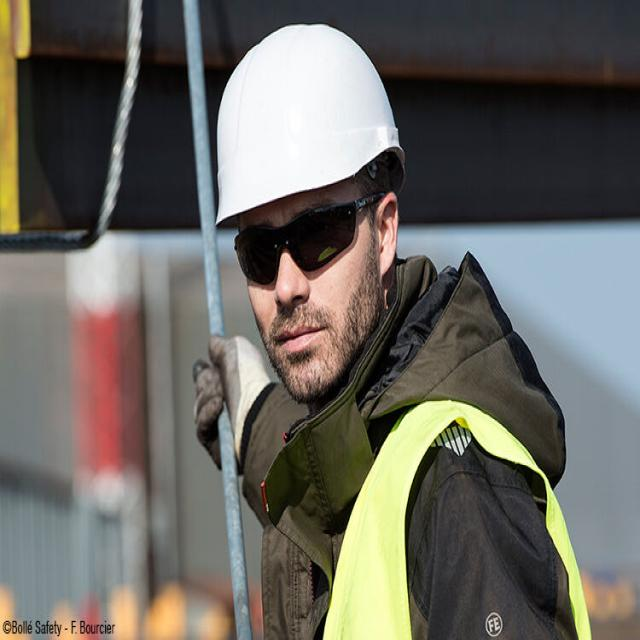goggles: (227, 188, 382, 291)
helmet: (212, 19, 408, 231)
vest: (315, 386, 596, 640)
